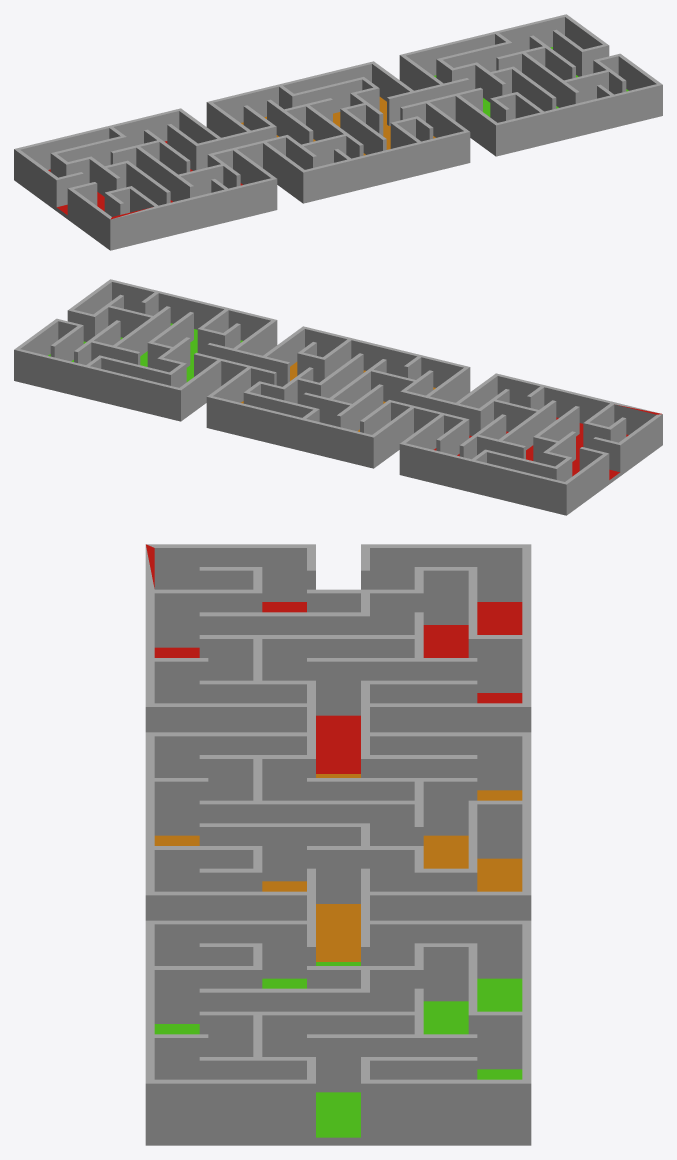
The model's file is labirint.fbx.
3 renders of one model, top to bottom at view 1: azimuth 30°, elevation 25°; view 2: azimuth 150°, elevation 25°; view 3: azimuth 270°, elevation 25°, orthographic. The views are drawn at different scales.
Visible parts, largest first — view 1: Плоскость.002; view 2: Плоскость.002; view 3: Плоскость.002.
Boxes of the visible parts, x1,y1,x2,y2 form: Плоскость.002: (14, 14, 662, 250); Плоскость.002: (14, 279, 662, 515); Плоскость.002: (145, 544, 531, 1145).
Size of the model in its own units: 4270 by 1290 by 230.
